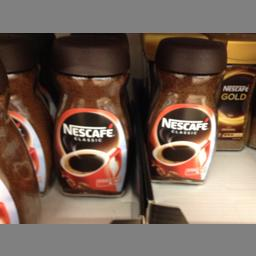coffee: (46, 34, 132, 196), (143, 36, 224, 182)
